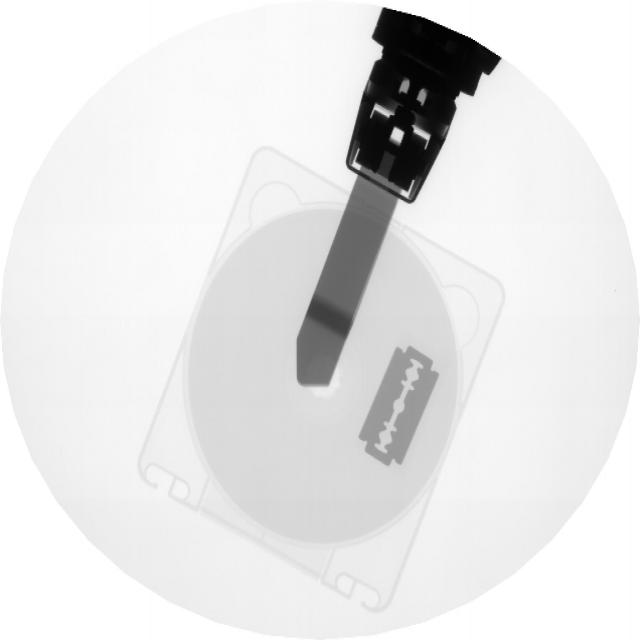BLADE: (355, 336, 448, 475)
